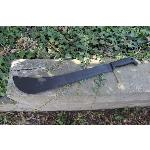Golok: (13, 51, 144, 97)
